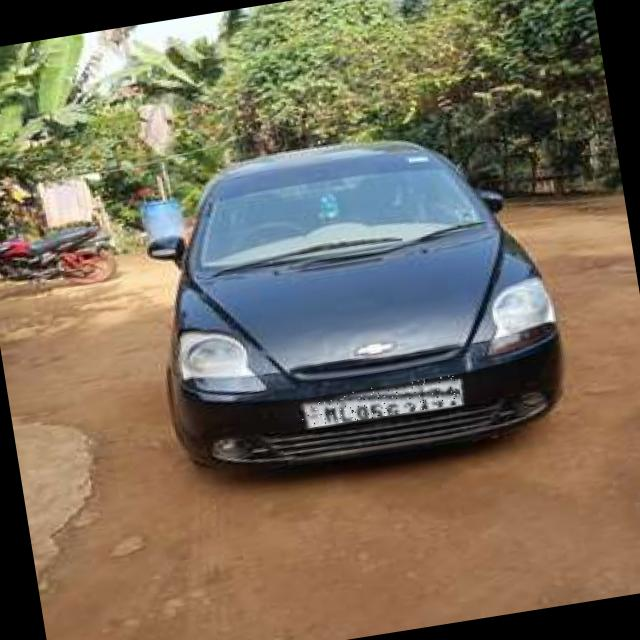Plate: (300, 375, 463, 430)
